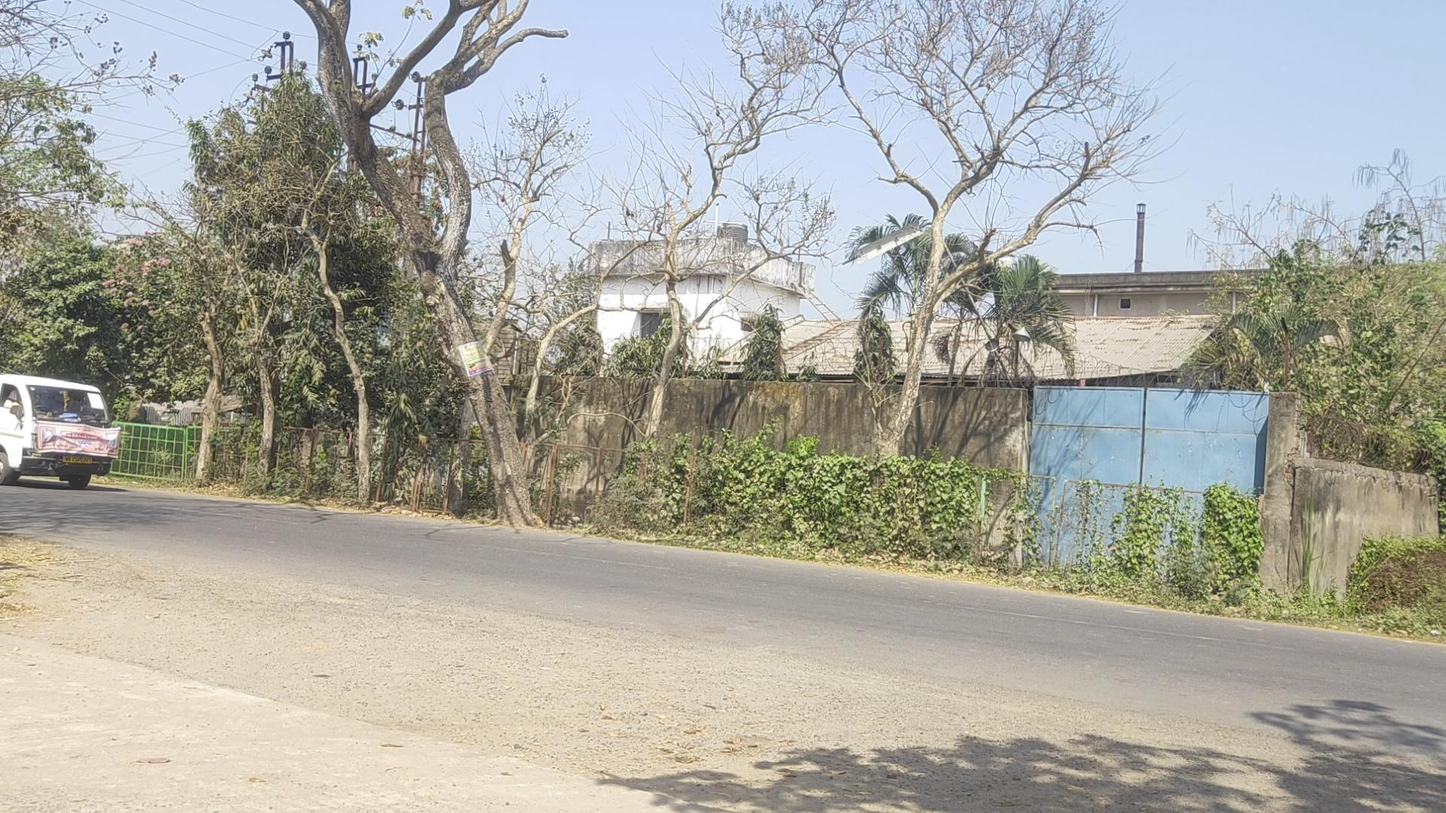van: (1, 373, 119, 490)
